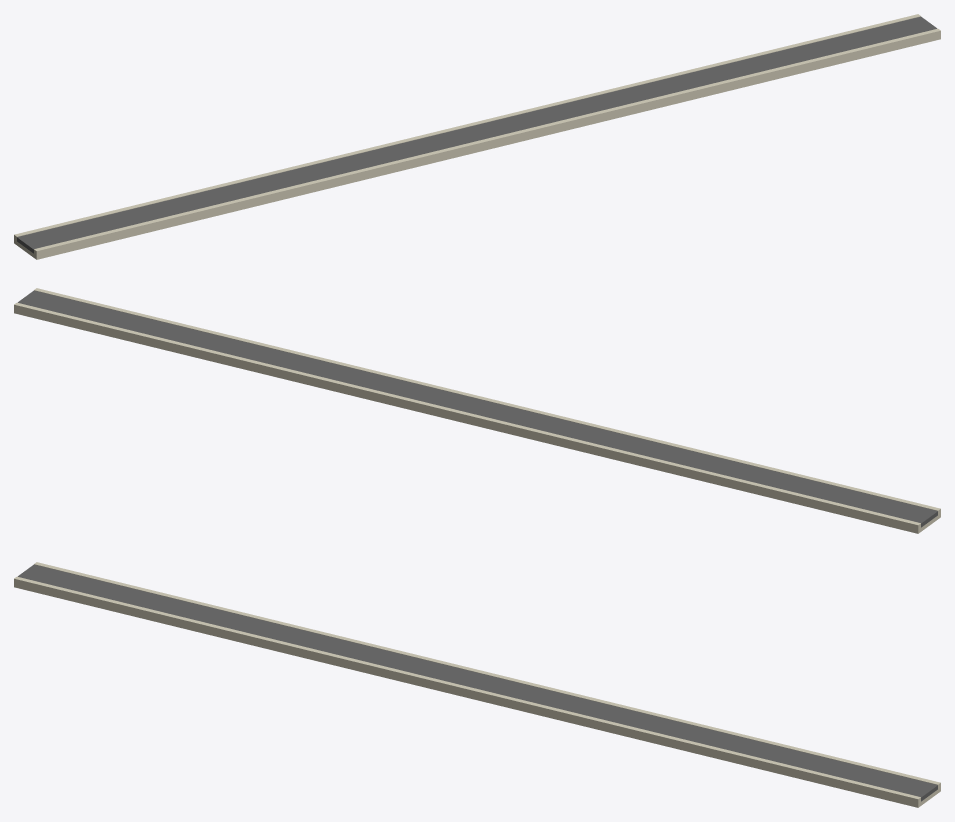
The model's file is kenney-road-row.obj.
The picture shows the model from 3 angles, top to bottom: view 1: azimuth 30°, elevation 25°; view 2: azimuth 150°, elevation 25°; view 3: azimuth 330°, elevation 25°; orthographic projection.
Size of the model in its own units: 69 by 0.63 by 3.
2 materials, 2 textured.
